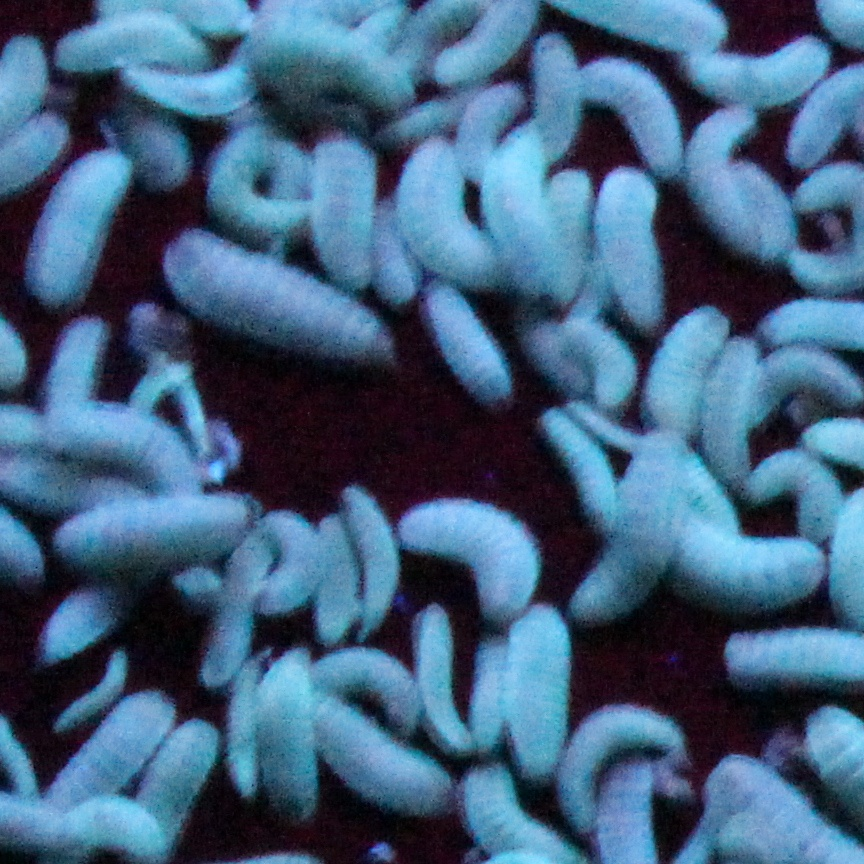larve: (153, 227, 393, 364), (578, 438, 684, 618), (42, 686, 178, 822), (307, 696, 462, 813), (400, 496, 548, 615), (49, 489, 266, 569), (557, 700, 686, 824), (33, 144, 126, 302), (242, 16, 407, 102), (393, 133, 486, 284), (486, 115, 564, 291), (62, 406, 204, 496), (680, 27, 831, 111), (671, 529, 822, 609), (597, 169, 668, 331), (208, 127, 315, 233), (507, 606, 573, 775), (255, 647, 318, 815), (300, 644, 429, 726), (315, 106, 375, 282), (335, 487, 404, 638), (118, 47, 189, 191), (644, 309, 726, 431), (578, 62, 677, 160), (735, 446, 835, 536), (193, 546, 257, 684), (748, 344, 864, 420), (431, 289, 506, 406), (411, 604, 471, 747), (693, 104, 751, 246), (708, 338, 762, 482), (547, 413, 608, 529), (51, 646, 135, 729), (262, 504, 326, 607), (53, 307, 97, 438), (460, 86, 522, 176), (53, 793, 160, 842), (738, 171, 791, 260), (233, 653, 266, 795), (566, 324, 628, 393), (475, 629, 507, 746)
